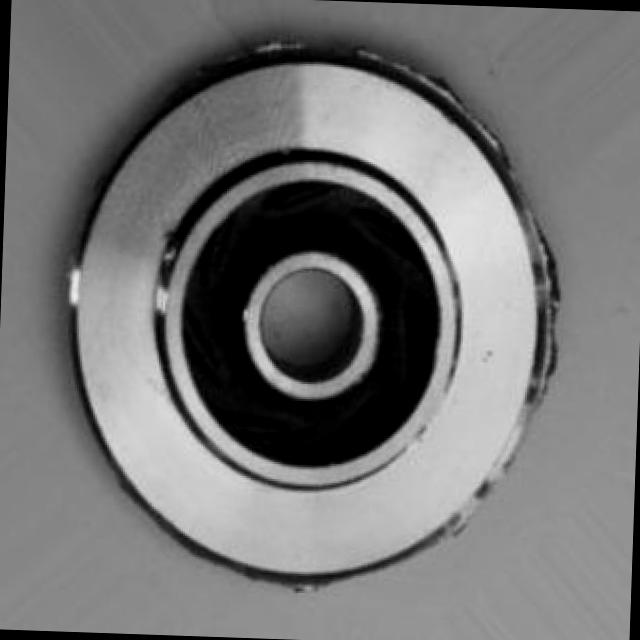Defect: (534, 248, 564, 313)
